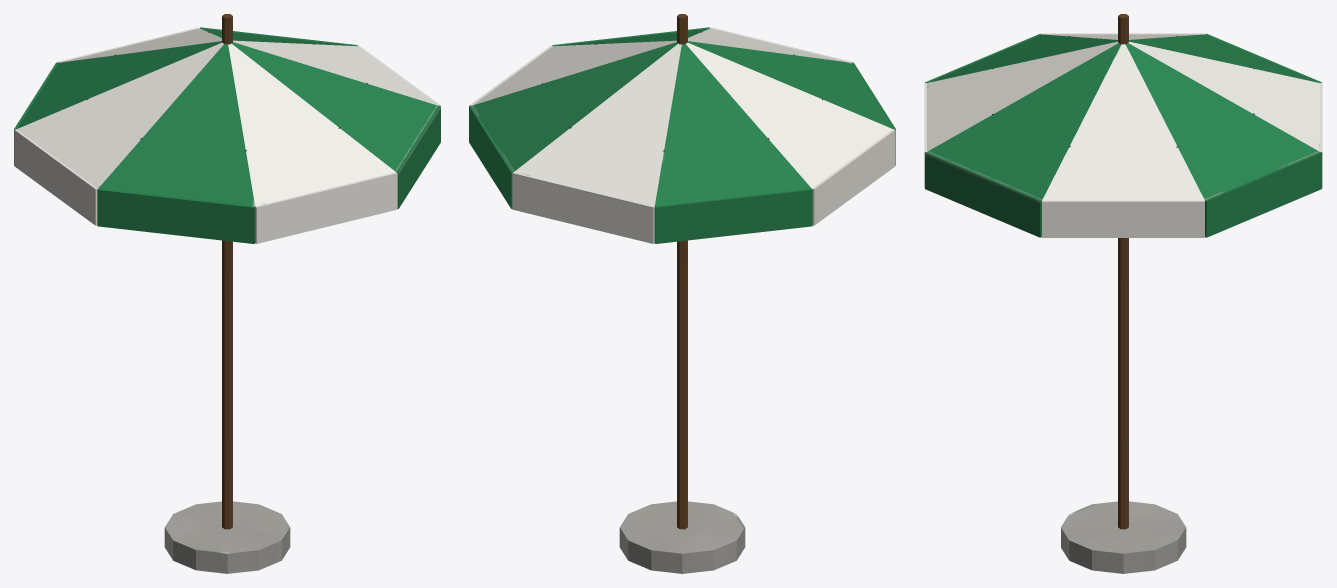
File: slunecnik_ac8e0e0f.glb
3 renders of one model, left to right at view 1: azimuth 30°, elevation 25°; view 2: azimuth 150°, elevation 25°; view 3: azimuth 270°, elevation 25°, orthographic.
Parts seen in each view (by area): view 1: dum; view 2: dum; view 3: dum.
Boxes of the visible parts, bbox=[...] form: dum: bbox=[14, 14, 440, 573]; dum: bbox=[469, 14, 895, 573]; dum: bbox=[924, 14, 1322, 573].
Bounding box in the file's own units: 1.77 × 2.61 × 1.77.
Materials: 1 (1 with a texture image).
